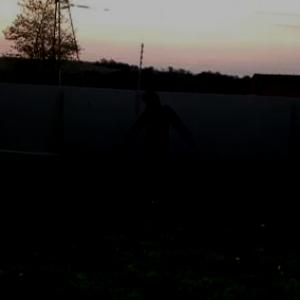land: (110, 86, 206, 220)
